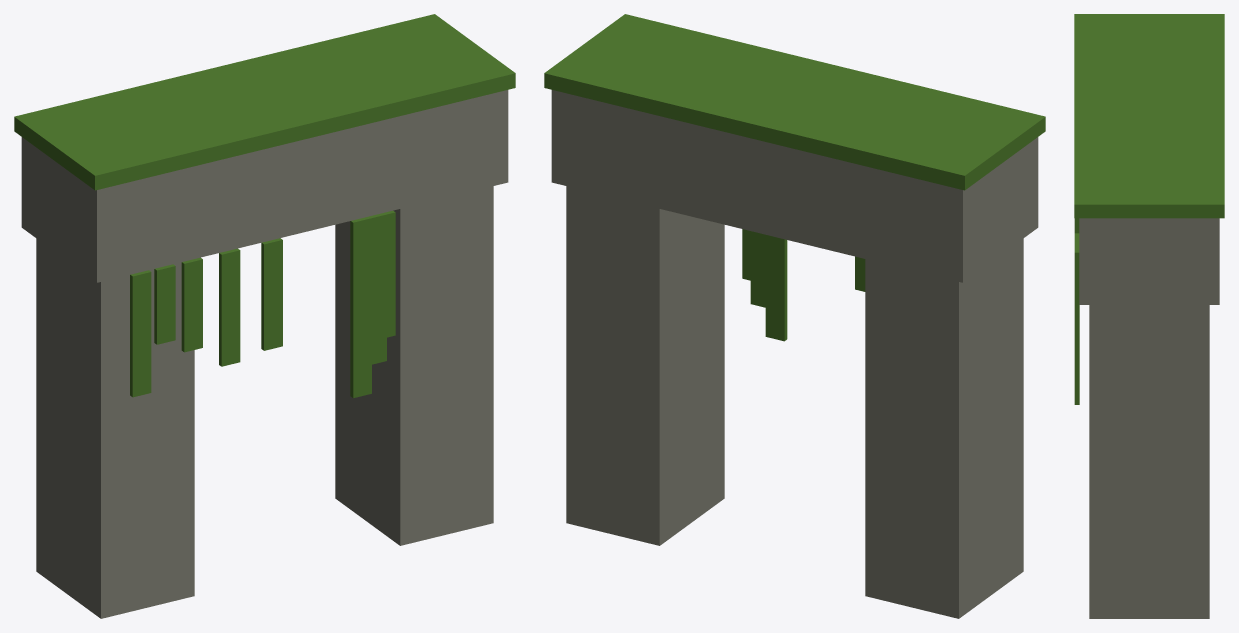
The model's file is passage.glb.
3 views of the same model, side by side, from view 1: azimuth 30°, elevation 25°; view 2: azimuth 150°, elevation 25°; view 3: azimuth 270°, elevation 25° (orthographic). The views are drawn at different scales.
Visible parts, largest first — view 1: stone-col, moss-col; view 2: stone-col, moss-col; view 3: stone-col, moss-col.
Boxes of the visible parts, x1,y1,x2,y2 form: stone-col: [21, 90, 508, 618]; moss-col: [14, 14, 515, 398]; stone-col: [551, 90, 1038, 618]; moss-col: [544, 14, 1045, 341]; stone-col: [1079, 218, 1219, 618]; moss-col: [1074, 14, 1224, 404].
Bounding box in the file's own units: 4.5 × 4.62 × 1.5.
